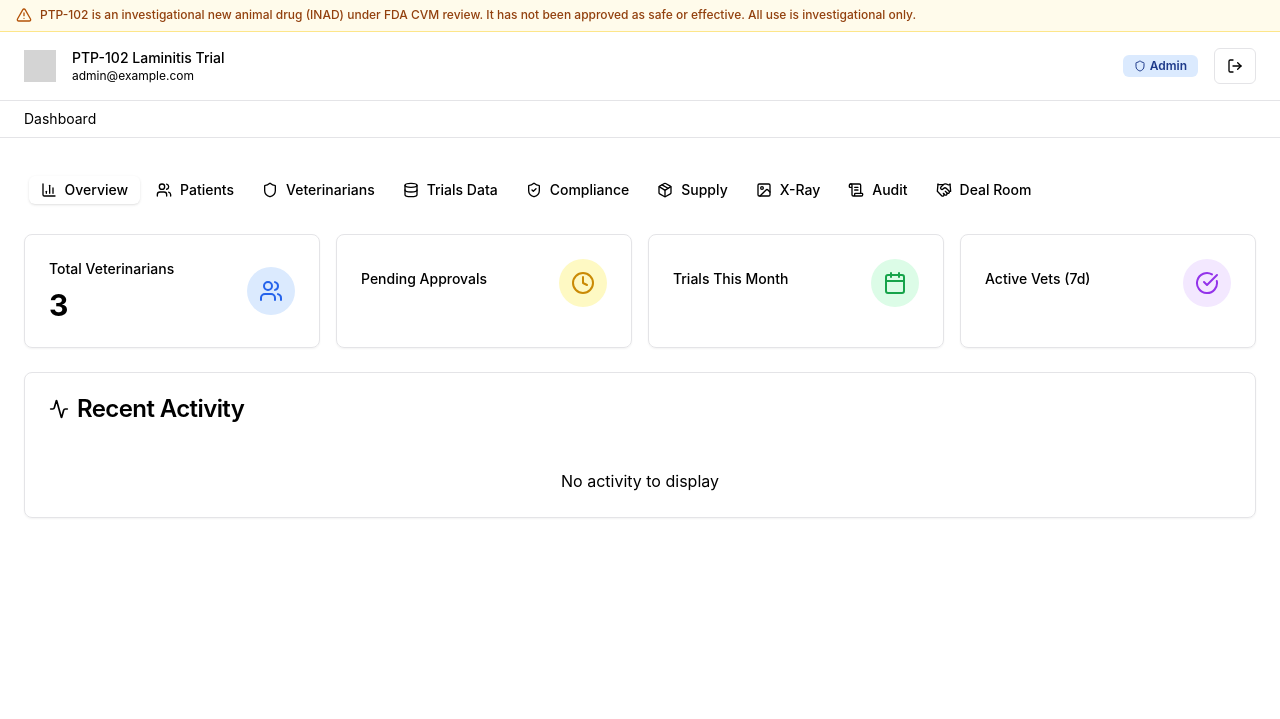
Test: Supply shipment visibility between admin and vet clinic › shows the shipment on the admin Supply tab
Expected: the text "Admin" is shown, [1123,55,1198,77]
Click the tab "Supply".
click(692, 190)  # box [645,176,740,204]
(page scrolled)
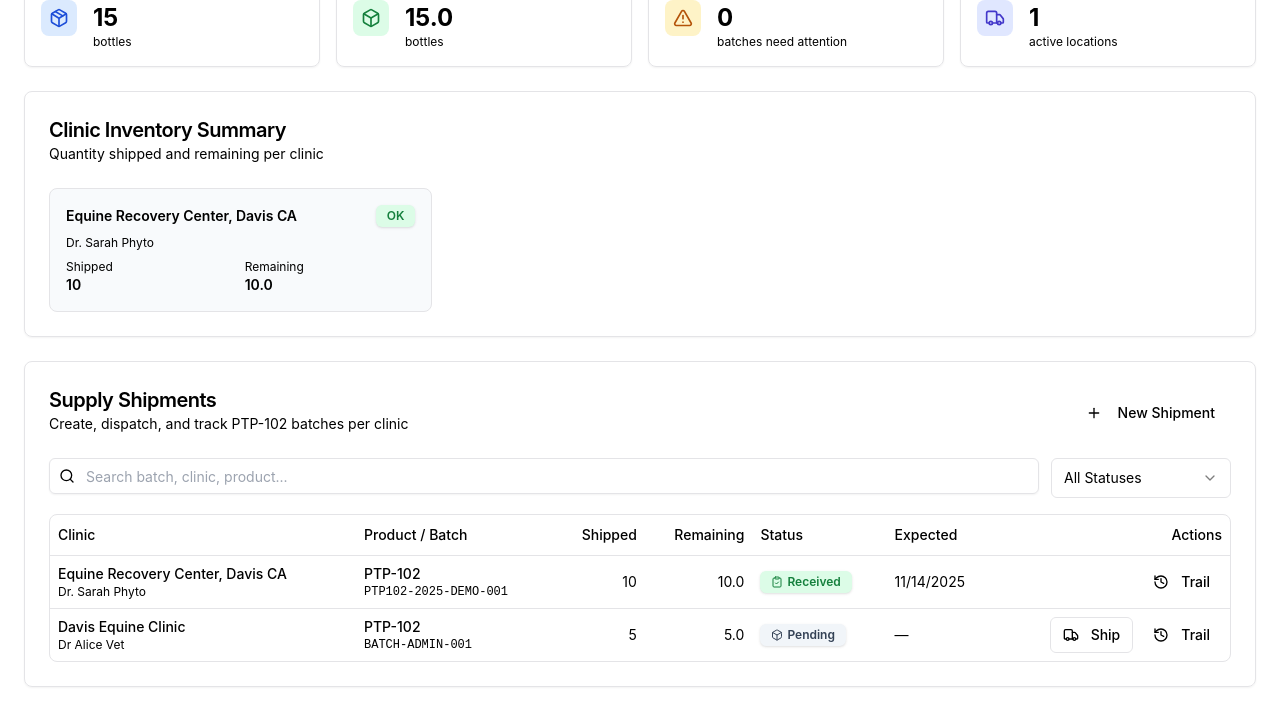
Expected: the heading "Supply Shipments" is shown, [49,388,216,412]
Expected: the text "BATCH-ADMIN-001" is shown, [364,638,472,652]
Expected: the text "Davis Equine Clinic" is shown, [58,618,186,634]
